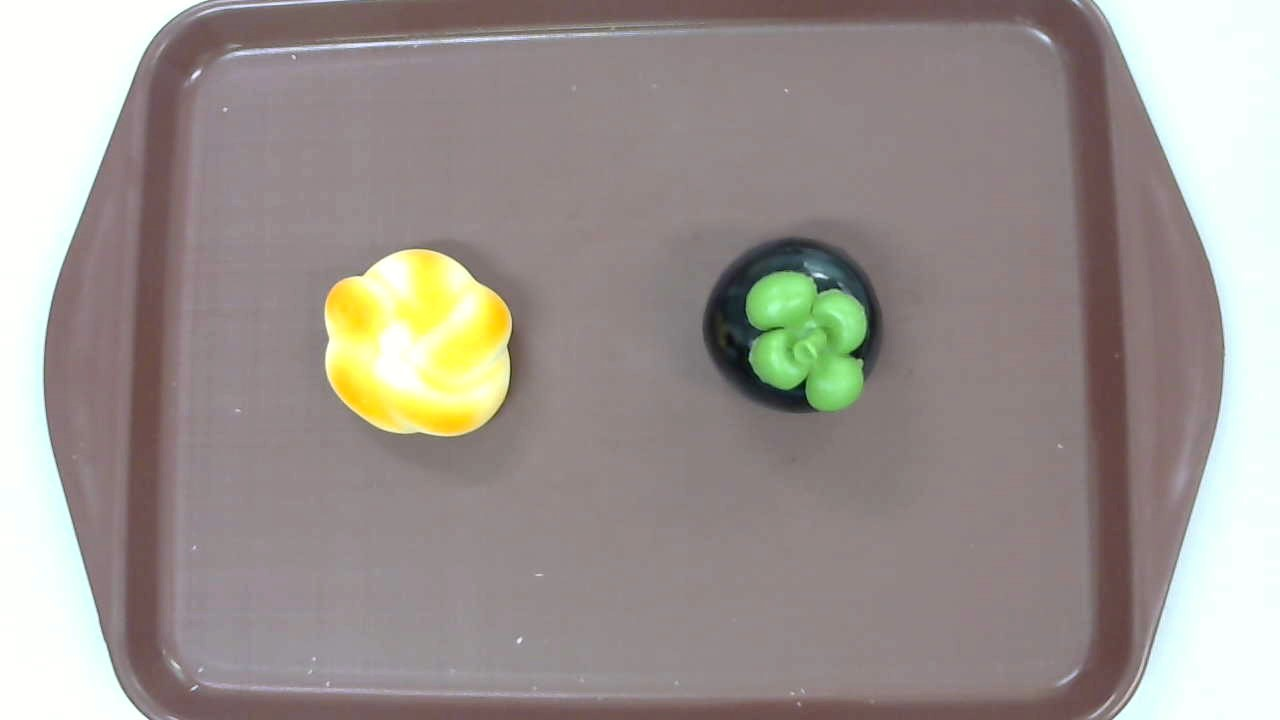mangosteen: (703, 236, 883, 412)
twist bread: (322, 248, 512, 437)
